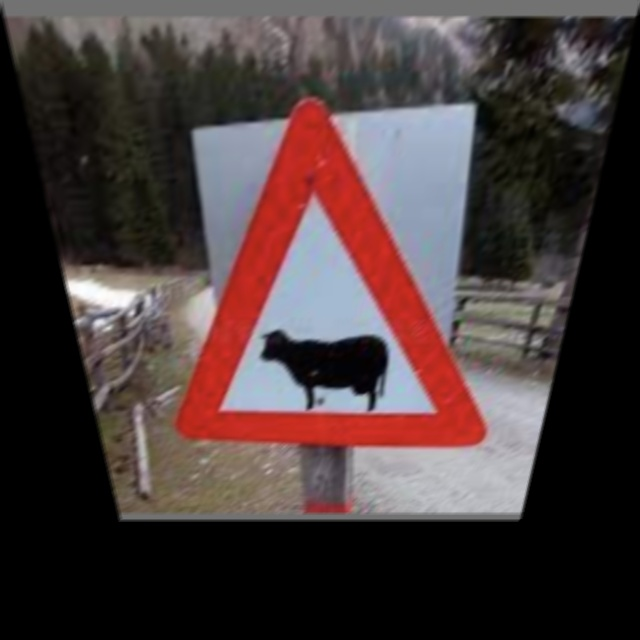Cattle: (159, 123, 523, 447)
